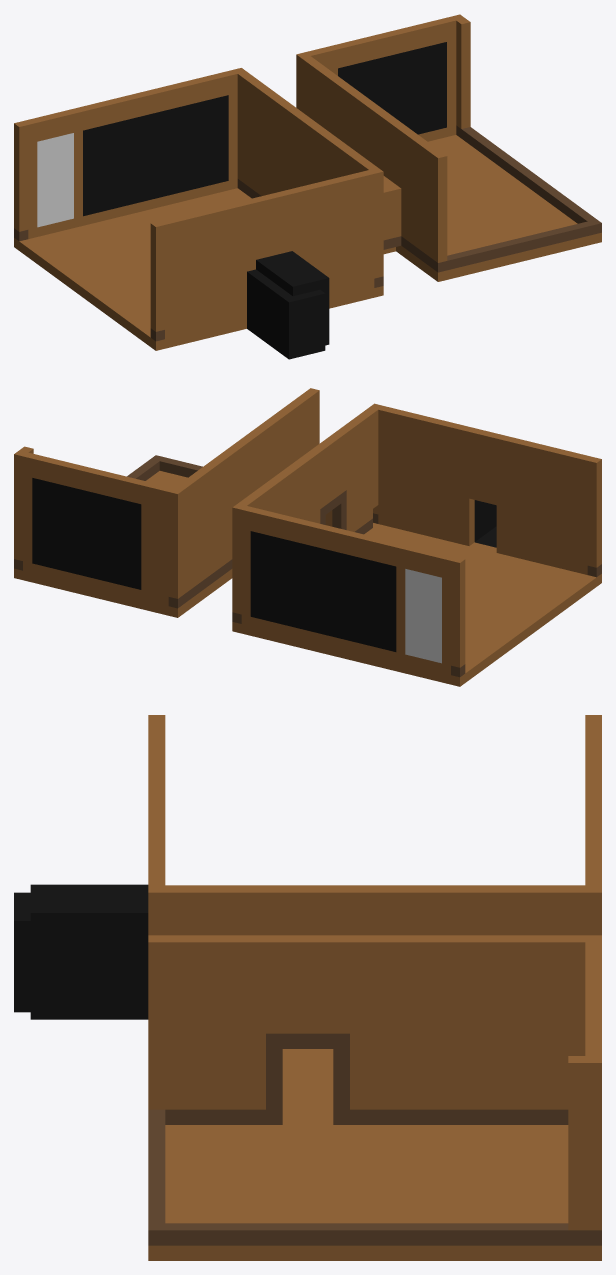
Rendered from TaskRoomVeryBad.obj.
3 renders of one model, top to bottom at view 1: azimuth 30°, elevation 25°; view 2: azimuth 150°, elevation 25°; view 3: azimuth 270°, elevation 25°, orthographic. The views are drawn at different scales.
Size of the model in its own units: 4.9 by 1.3 by 3.5.
Materials: 1 (1 with a texture image).
